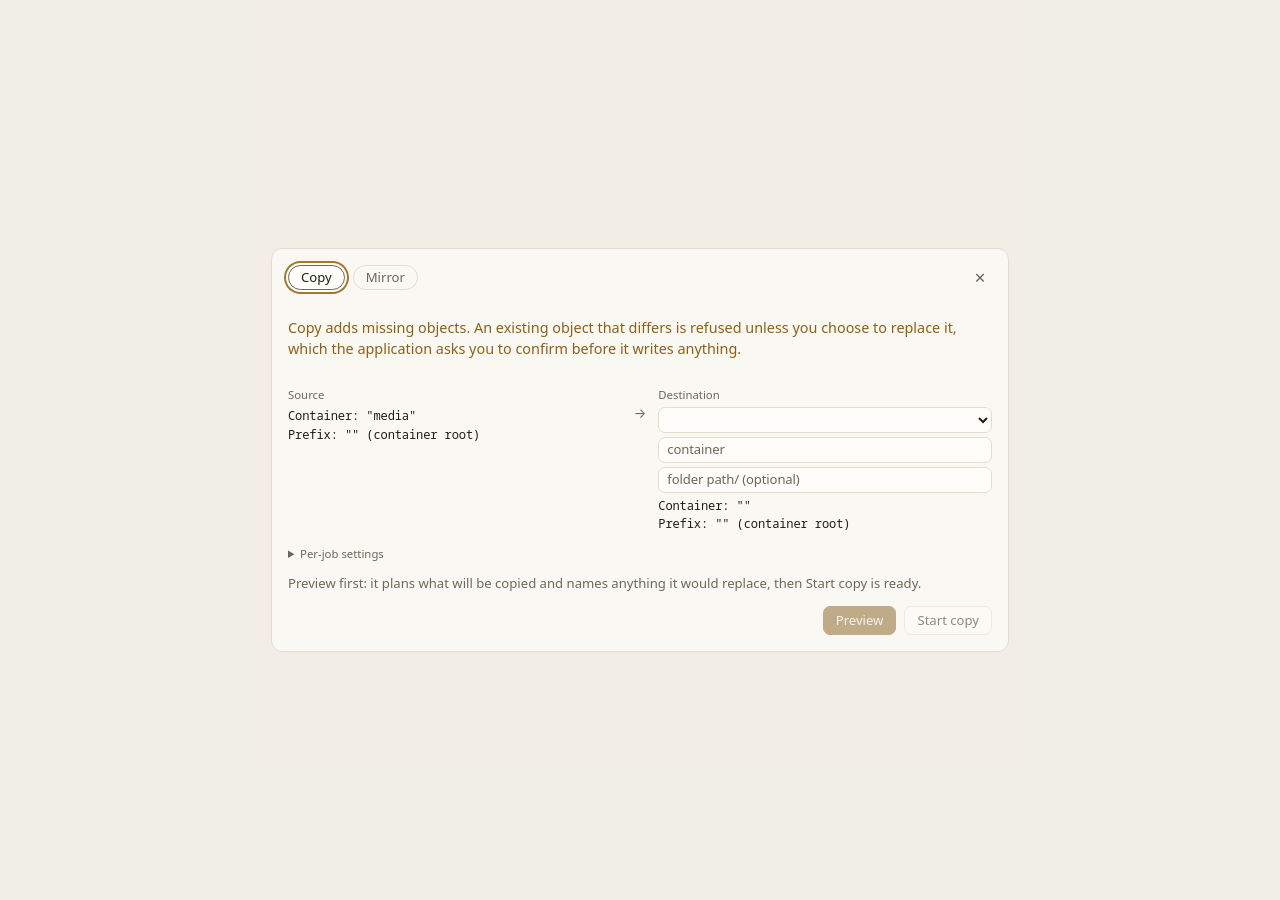
Test case: distinguishes refused overwrites from uncertain comparison candidates
Type "backup" into the field with placeholder "container" at (825, 450), box x1=658 y1=437 x2=992 y2=463
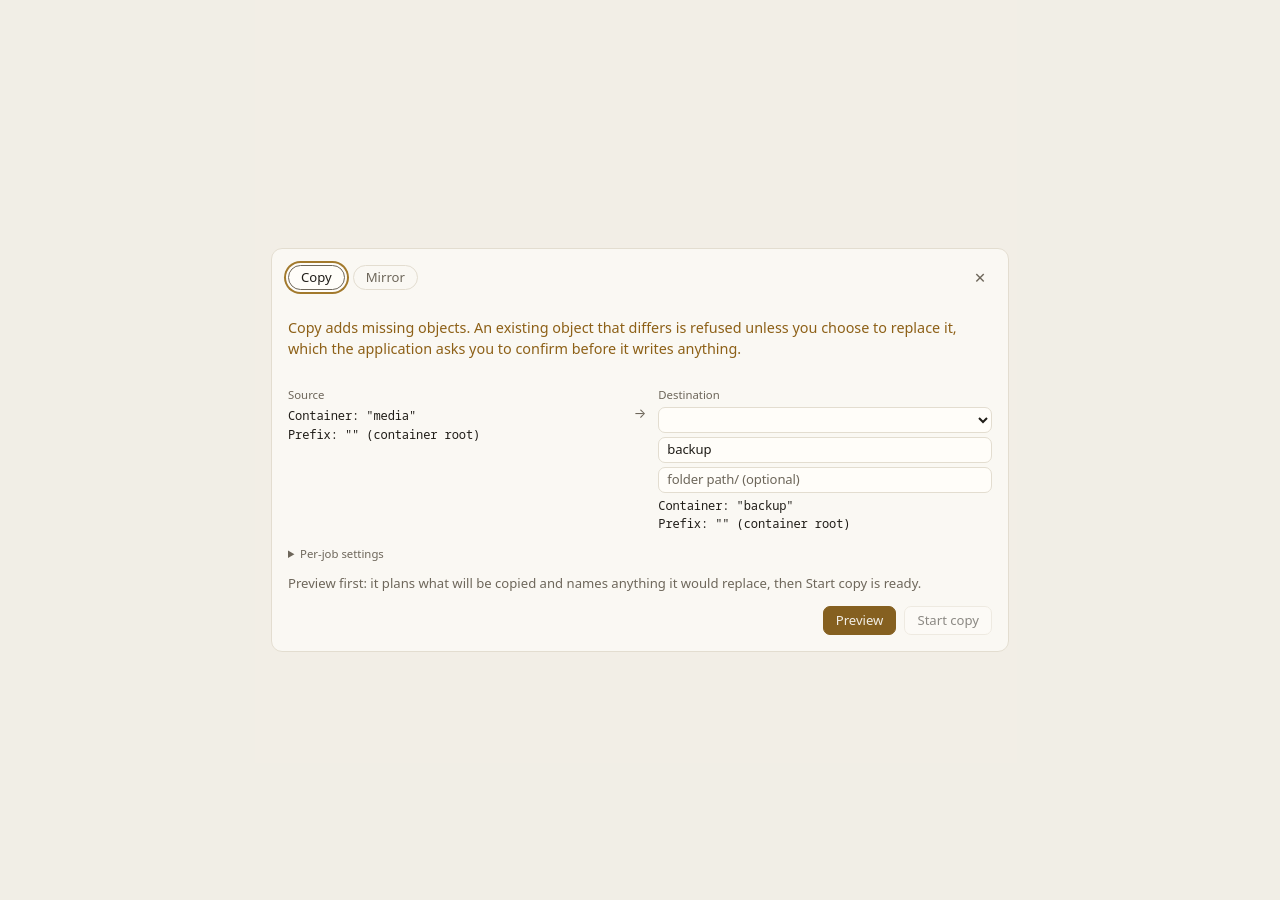
Click the button "Preview" at (860, 620), box x1=823 y1=606 x2=896 y2=635
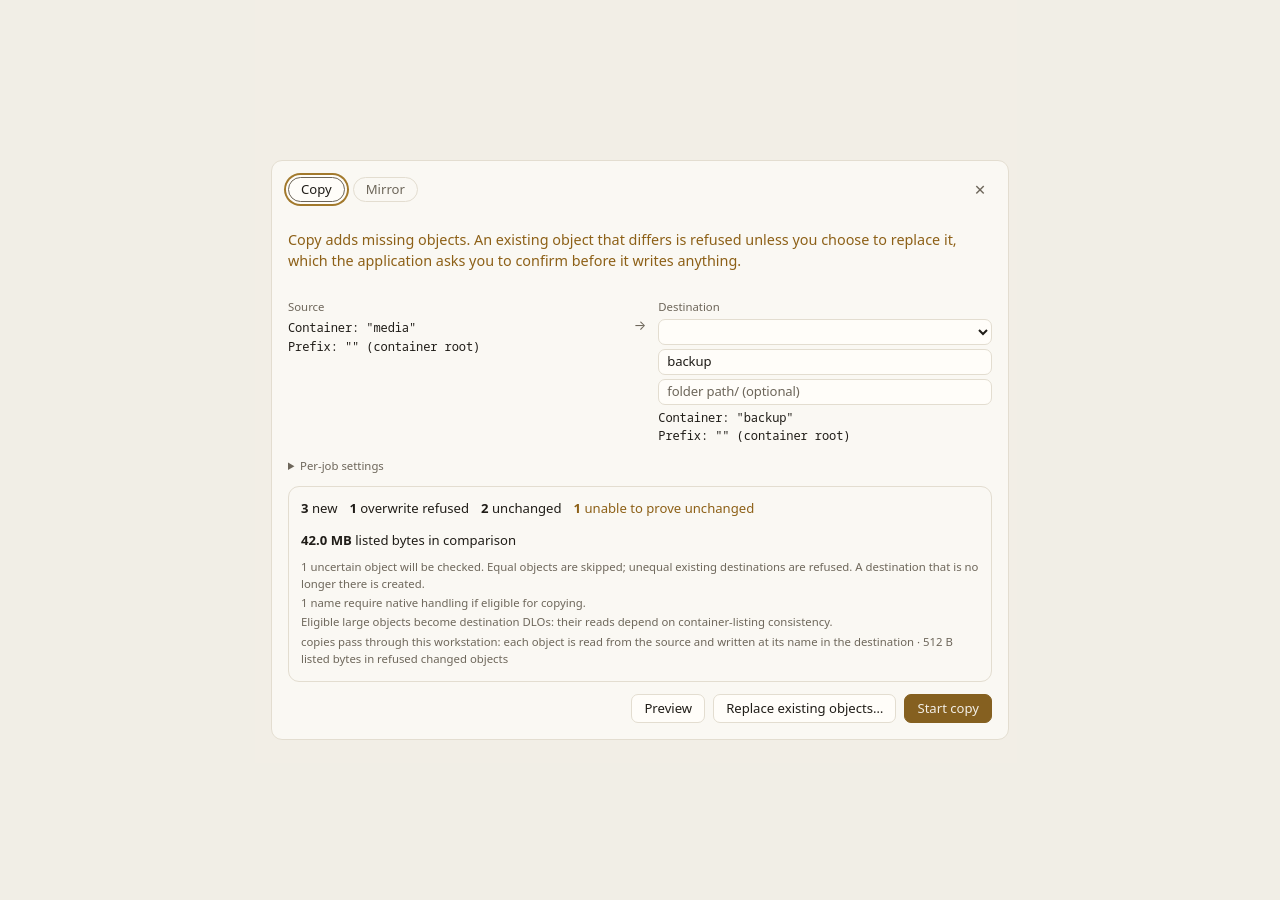
expect the element that starts with "new" is shown: met, box x1=288 y1=486 x2=992 y2=682
expect the text "1 overwrite refused" is shown: met, box x1=350 y1=499 x2=469 y2=519
expect the text "unequal existing destinations are refused" is shown: met, box x1=301 y1=559 x2=978 y2=591
